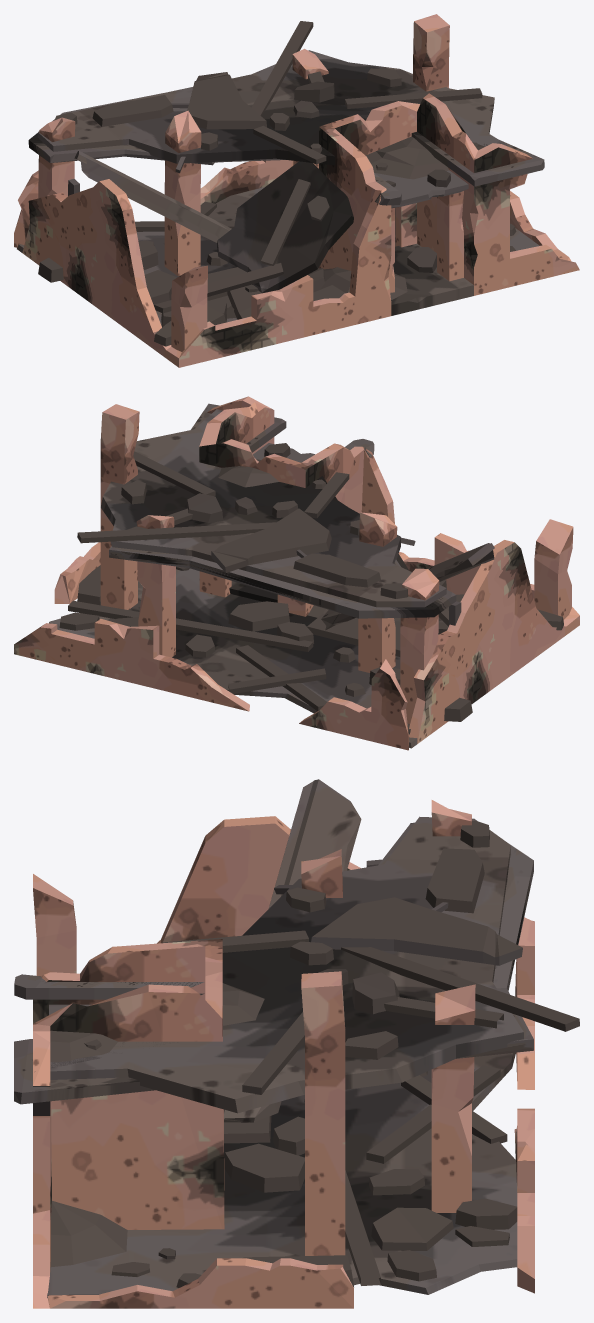
The model's file is SM_Bld_Destroyed_02.fbx.
3 renders of one model, top to bottom at view 1: azimuth 30°, elevation 25°; view 2: azimuth 150°, elevation 25°; view 3: azimuth 270°, elevation 25°, orthographic. The views are drawn at different scales.
Visible parts, largest first — view 1: SM_Bld_Destroyed_02; view 2: SM_Bld_Destroyed_02; view 3: SM_Bld_Destroyed_02.
Boxes of the visible parts, <box> form: SM_Bld_Destroyed_02: <box>14,14,579,367</box>; SM_Bld_Destroyed_02: <box>14,396,579,750</box>; SM_Bld_Destroyed_02: <box>14,779,579,1308</box>.
Bounding box in the file's own units: 1054 × 471 × 820.
